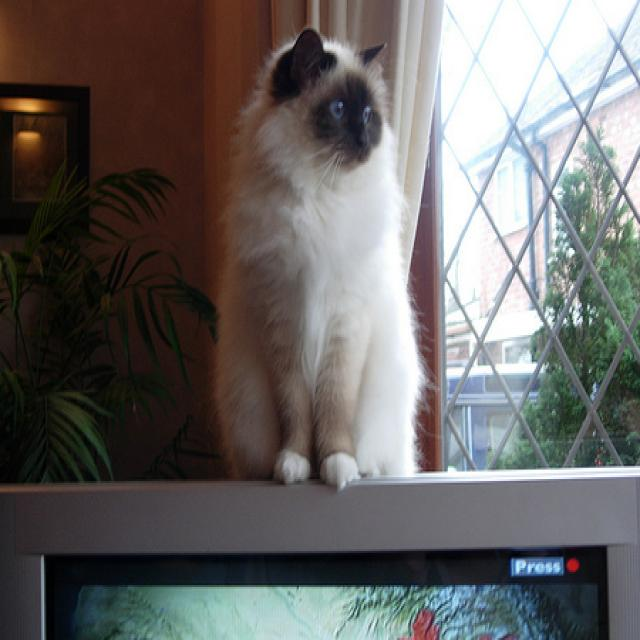Birman: (214, 24, 430, 492)
